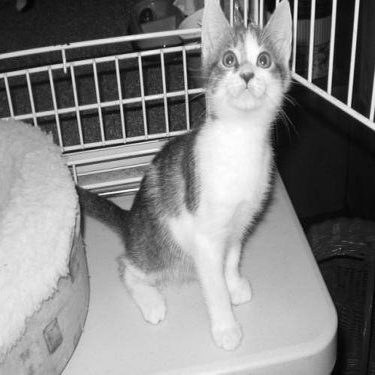cat: (74, 5, 297, 351)
